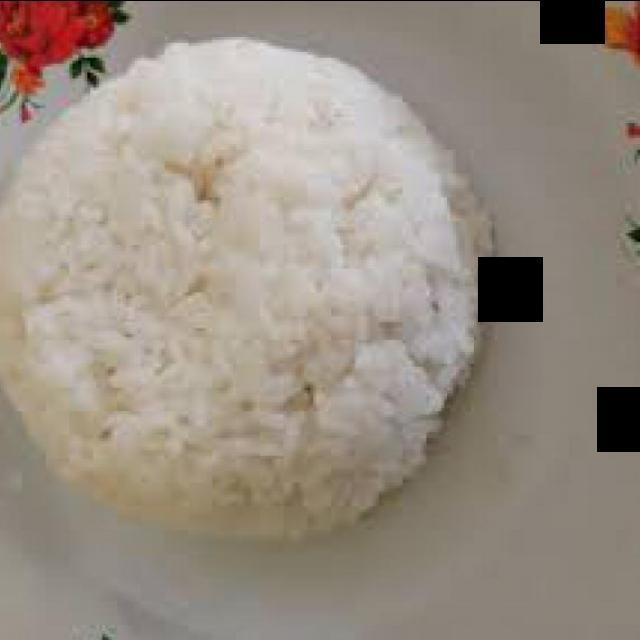Chicken -Chicken Inasal-: (3, 44, 482, 545)
